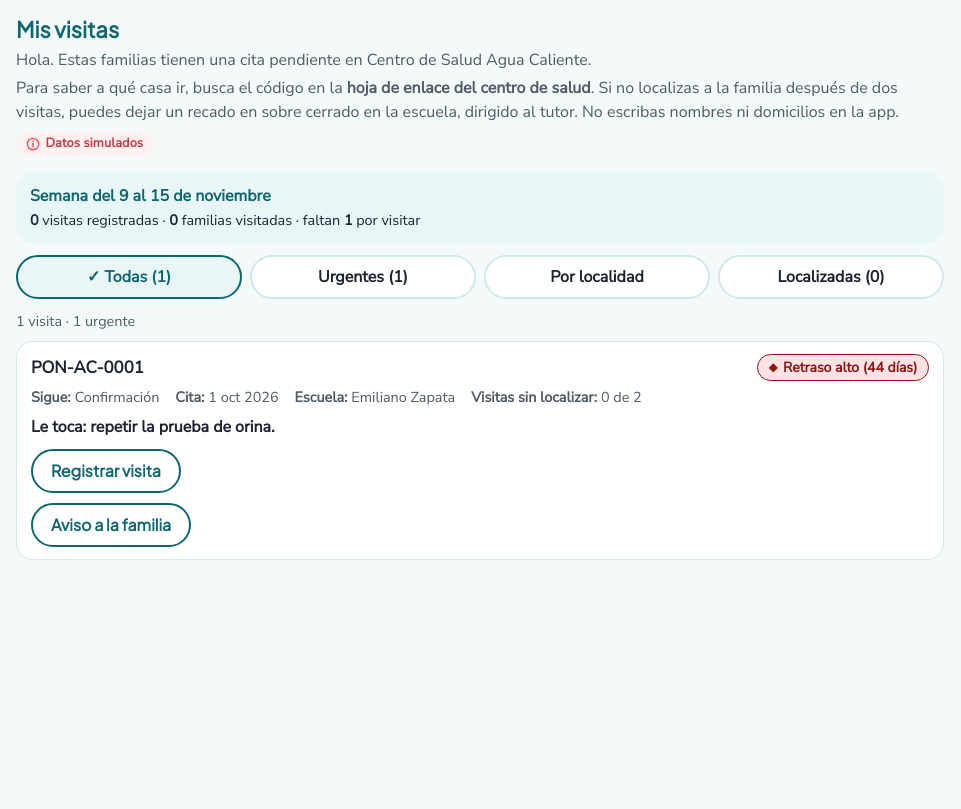
Aviso a la familia (HU06) › pide elegir canal antes de registrar
Click the button "Aviso a la familia".
click(111, 525)  # box [31,503,191,547]
(page scrolled)
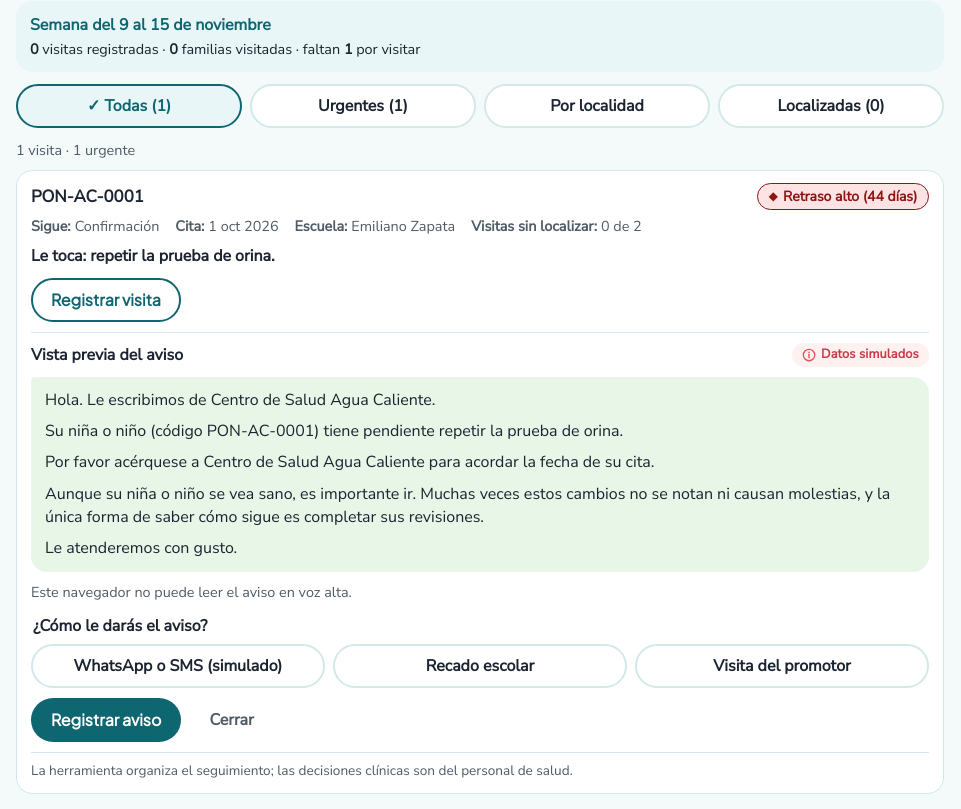
Click the button "Registrar aviso".
click(106, 720)  # box [31,698,182,742]
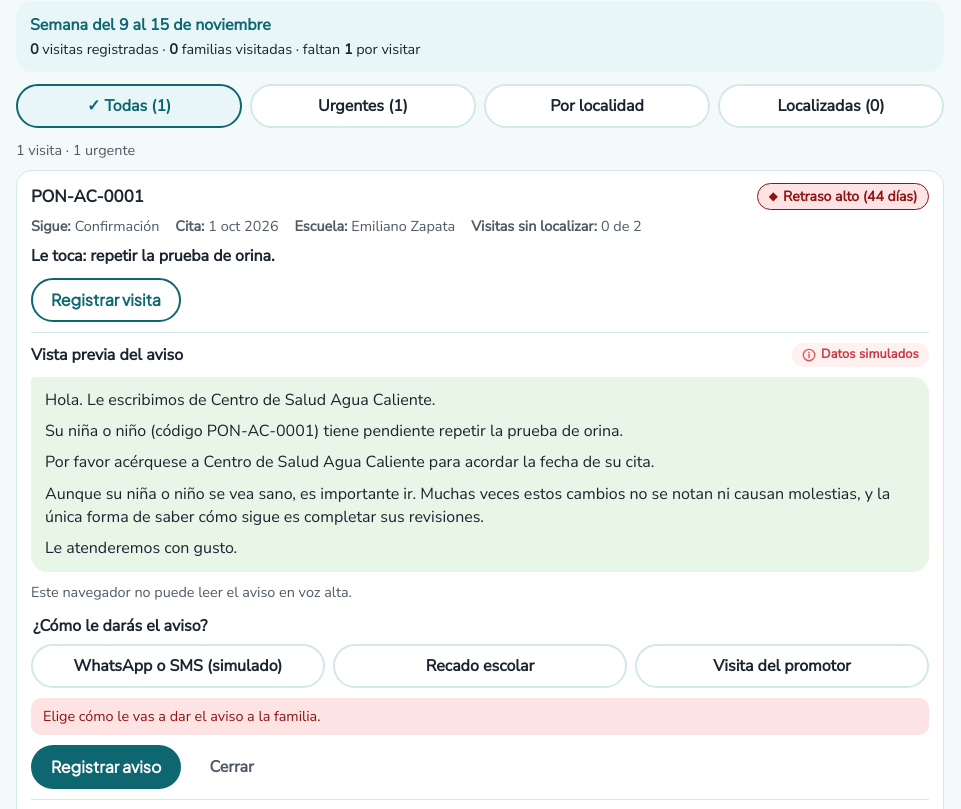
Now the message reads "Elige cómo le vas a dar el aviso a la familia.", box [43,706,320,726]
